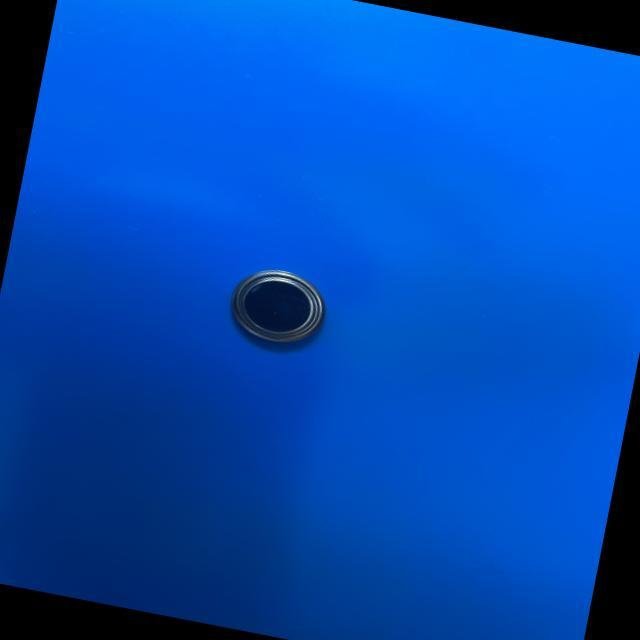COIN: (220, 258, 334, 352)
